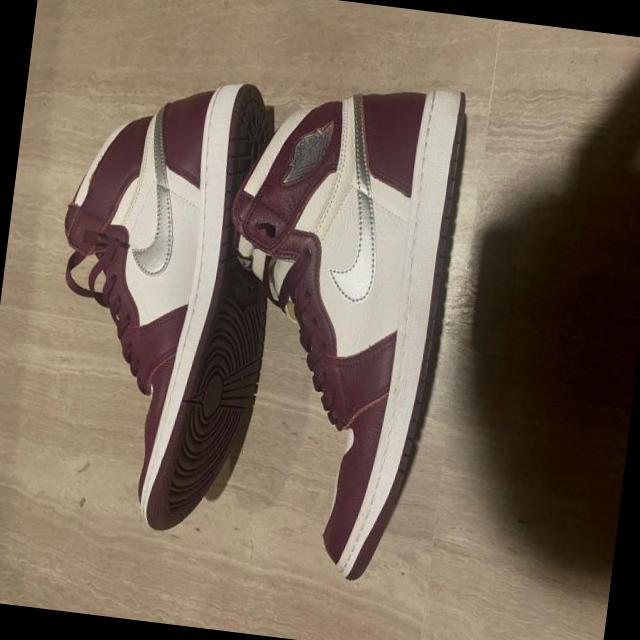nike_original_jordan: (189, 56, 476, 589), (22, 63, 299, 546)
